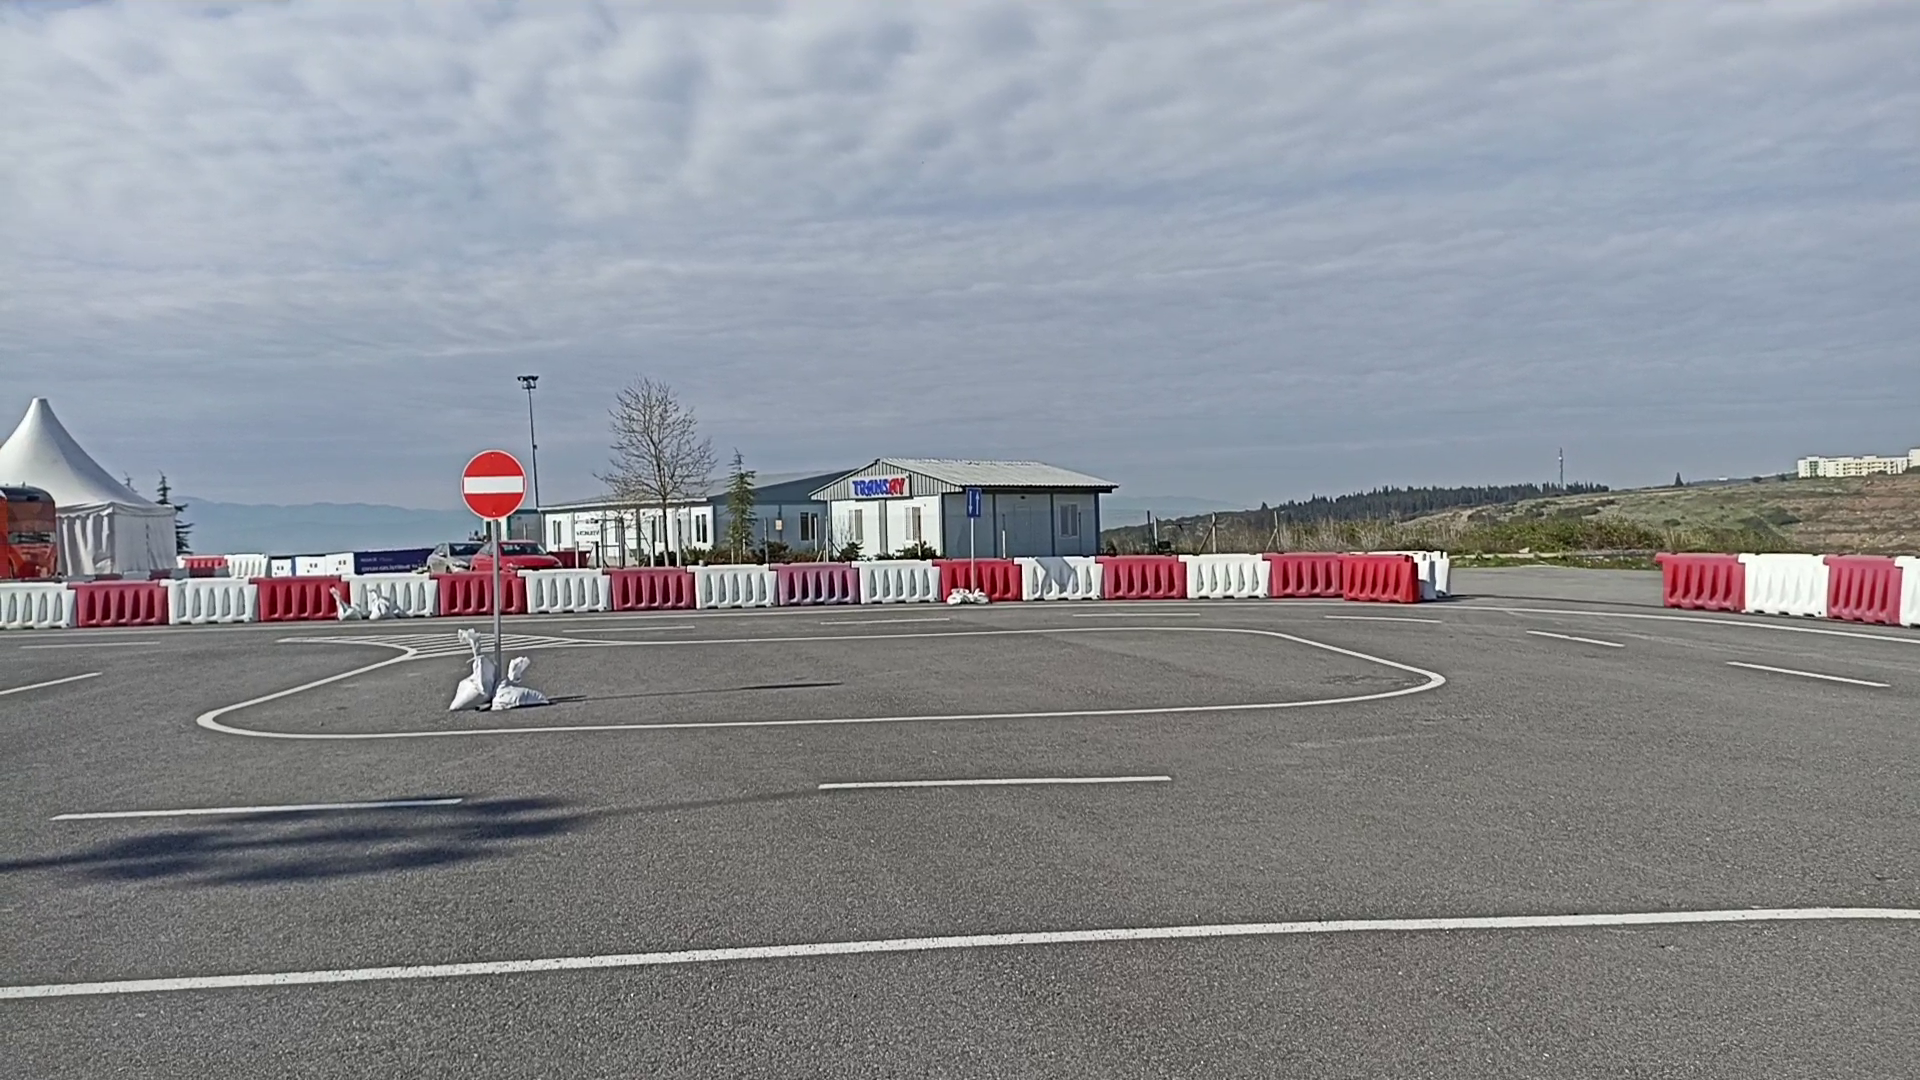noentryway: (459, 448, 529, 522)
